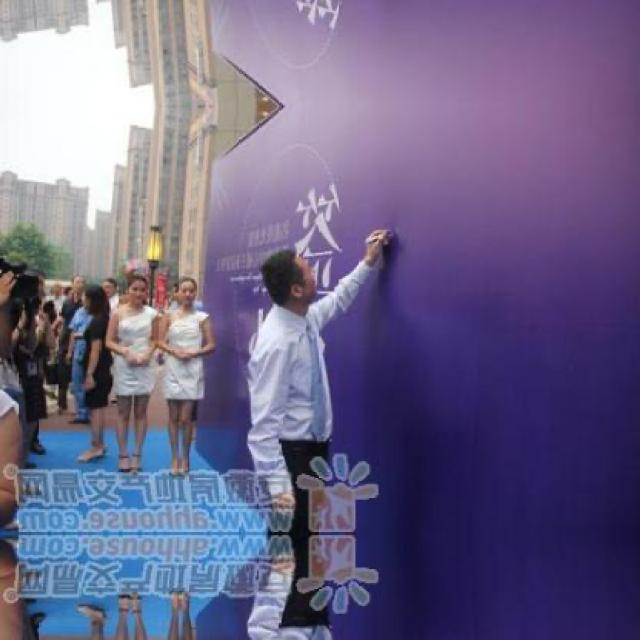sin casco: (250, 242, 338, 311), (110, 274, 143, 309), (160, 280, 202, 305)
